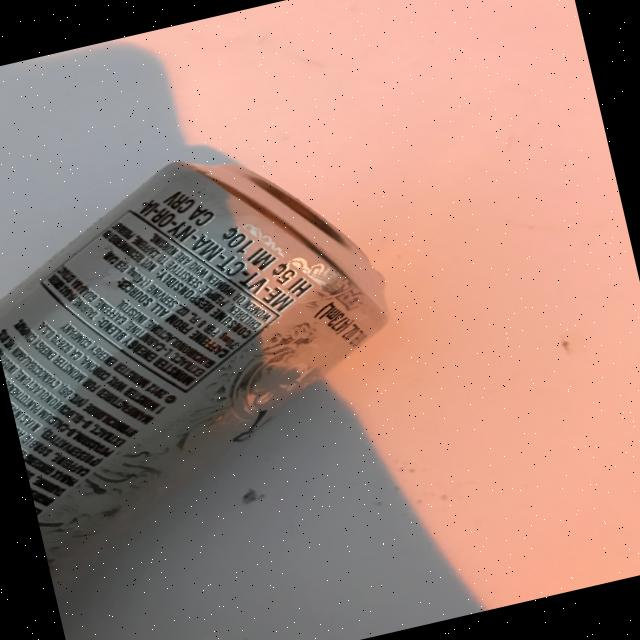metal: (0, 118, 437, 586)
